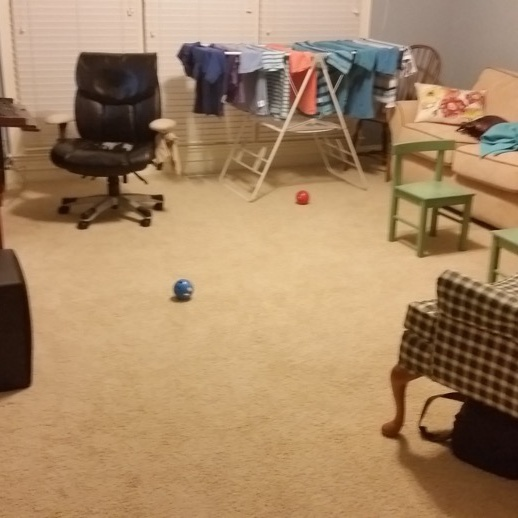blueball: (172, 277, 195, 303)
redball: (293, 187, 311, 207)
